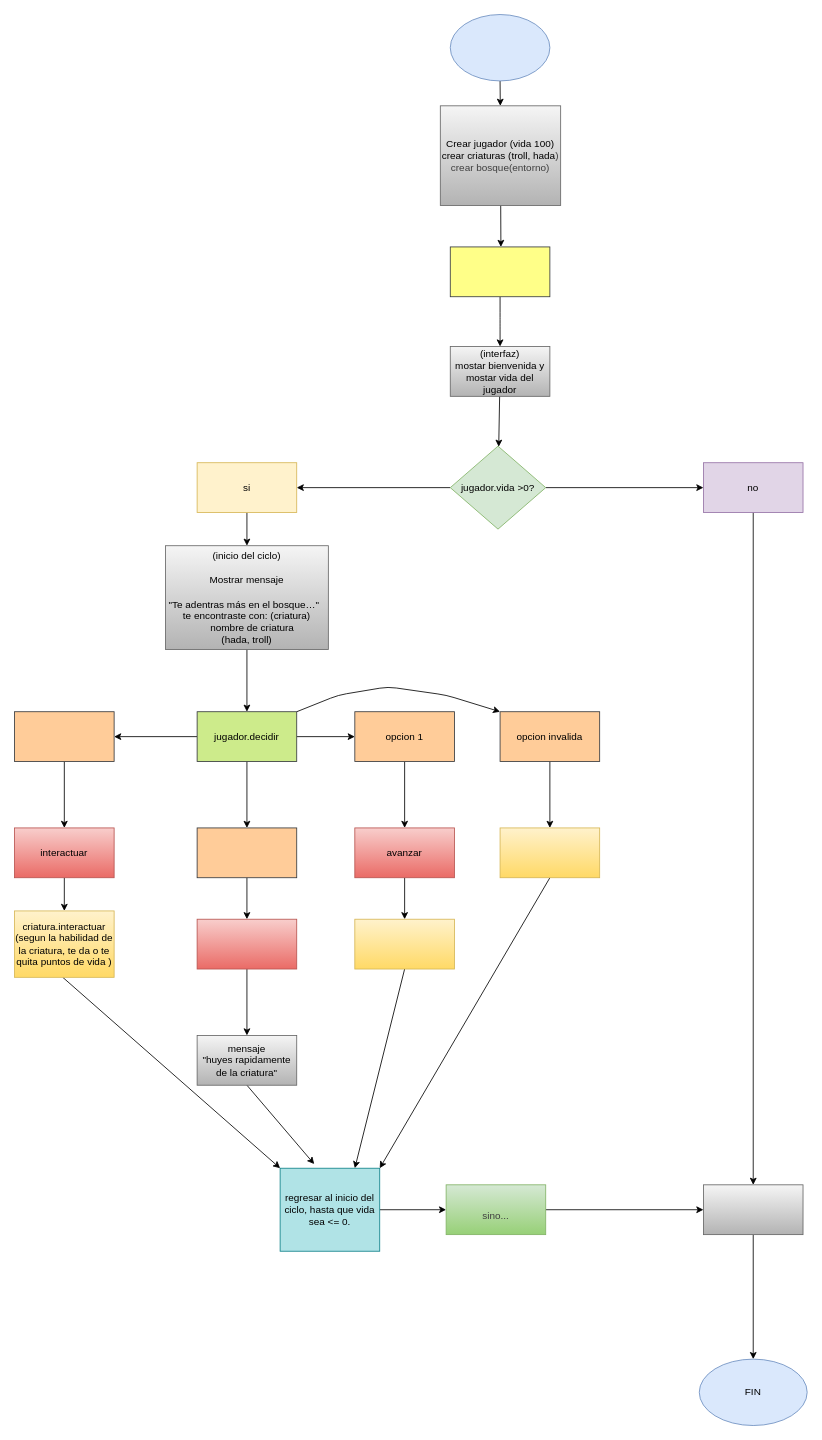
This 822x1440 diagram has some shape labels left out. The box of each missing label's shape, as (x1, y1, x2, y2) in pixels:
"avanzas mas en el bosque": (354, 918, 454, 969)
bosque.recorrer (jugador): (449, 246, 550, 297)
huir: (196, 918, 297, 969)
INICIO: (449, 14, 550, 81)
mostar mensaje has perdido, fin del juego.: (703, 1184, 803, 1235)
opcion 2: (196, 827, 297, 878)
opcion 3: (14, 711, 114, 762)
pierdes tiempo en el bosque...: (499, 827, 600, 878)
